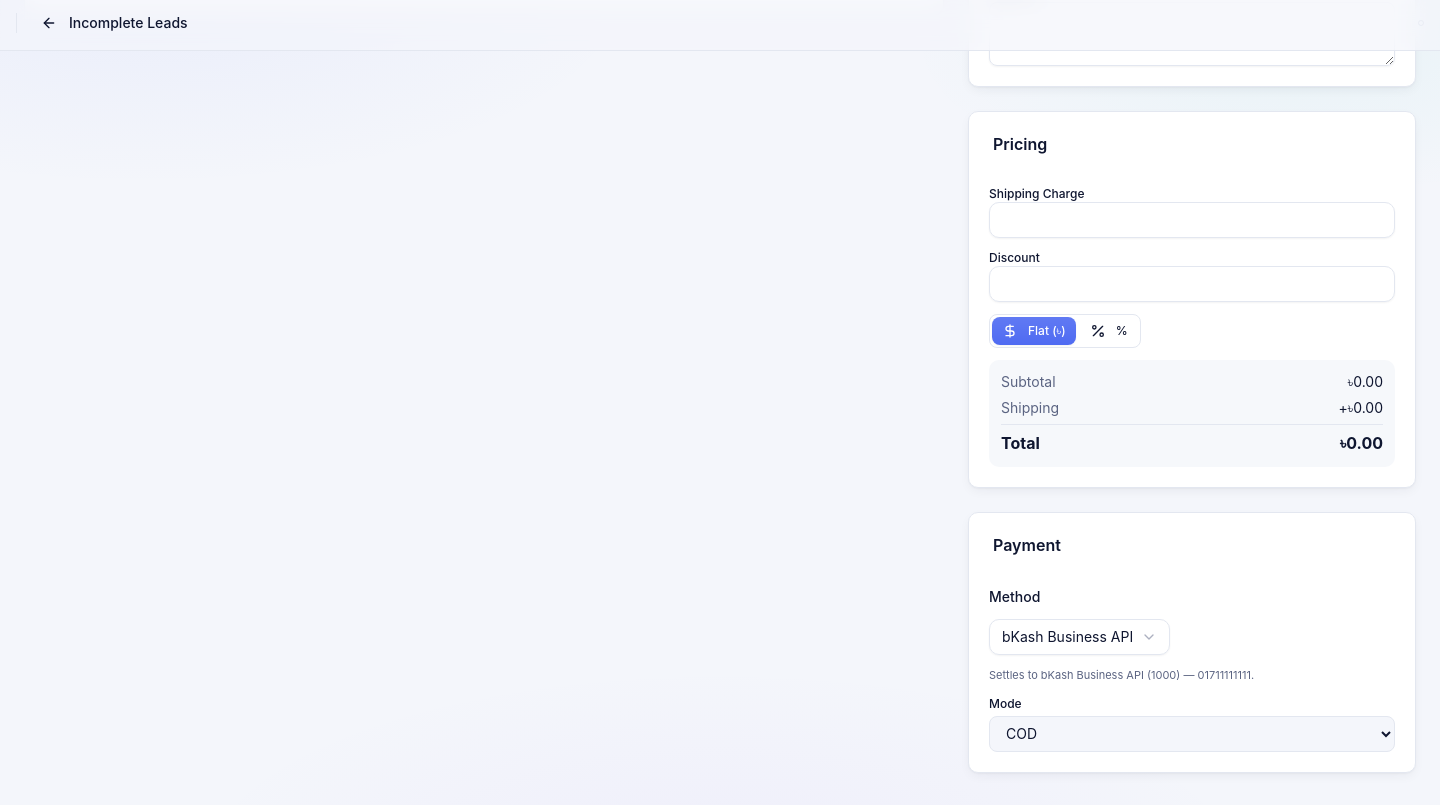
Test case: ConvertLead — configured payment gateway selection › sources the Method options from configuration, never from the form file
The width and height of the screenshot is (1440, 805).
(page scrolled)
Click the dropdown named "Method" at (1080, 637), box left=989, top=619, right=1170, bottom=655
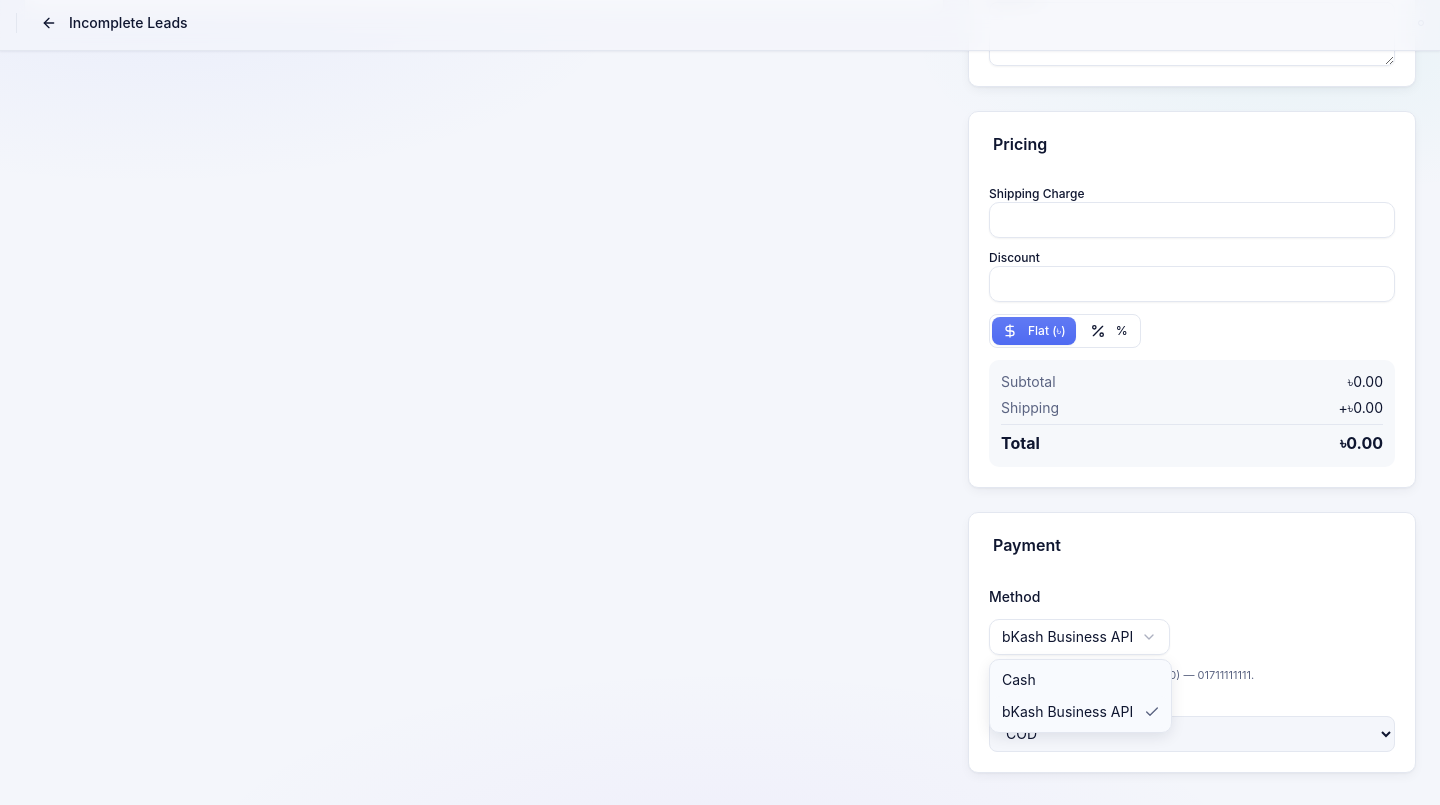
Expected: the option "bKash Business API" is shown, left=994, top=696, right=1167, bottom=728
